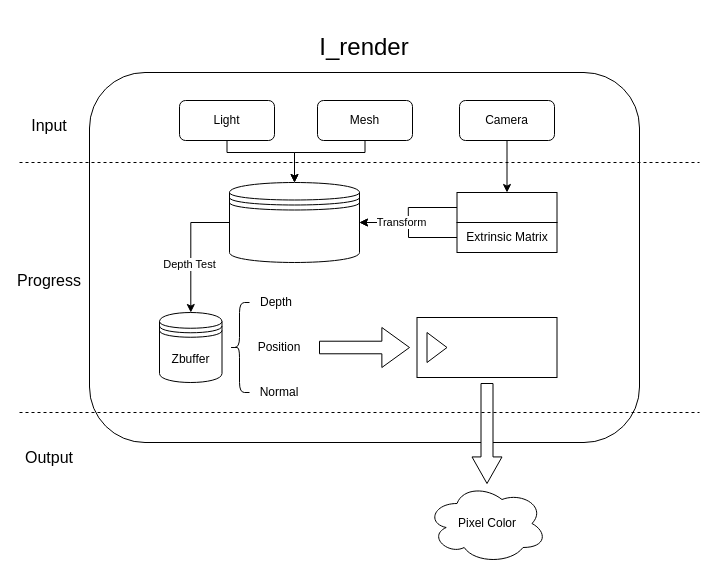
Image size: 718x581. Some labels were removed from this diagram. Each missing label, with the box of its shape:
Intrinsic Matrix: (456, 192, 557, 222)
Shader (Blin-Phong model): (416, 316, 557, 378)
View space(GPU) Light&Mesh: (228, 182, 360, 262)
